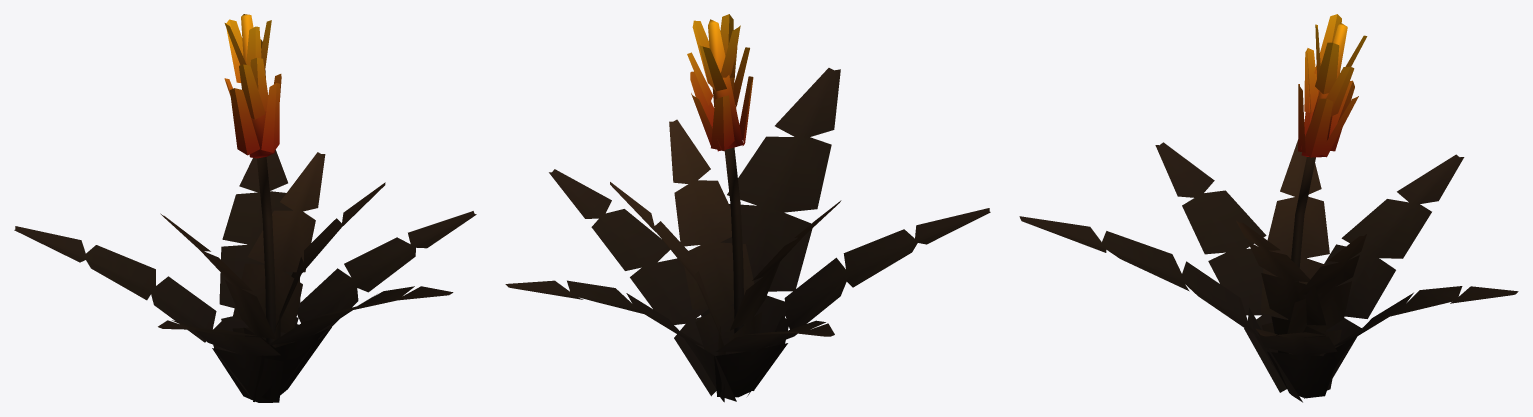
File: mountain_flower_1.fbx
3 views of the same model, side by side, from view 1: azimuth 30°, elevation 25°; view 2: azimuth 150°, elevation 25°; view 3: azimuth 270°, elevation 25° (orthographic). The views are drawn at different scales.
Visible parts, largest first — view 1: Mountain Flower 1; view 2: Mountain Flower 1; view 3: Mountain Flower 1.
Boxes of the visible parts, x1,y1,x2,y2 form: Mountain Flower 1: (14, 14, 476, 402); Mountain Flower 1: (505, 14, 990, 402); Mountain Flower 1: (1019, 14, 1518, 402).
Size of the model in its own units: 149 by 142 by 174.
1 material, 1 textured.
